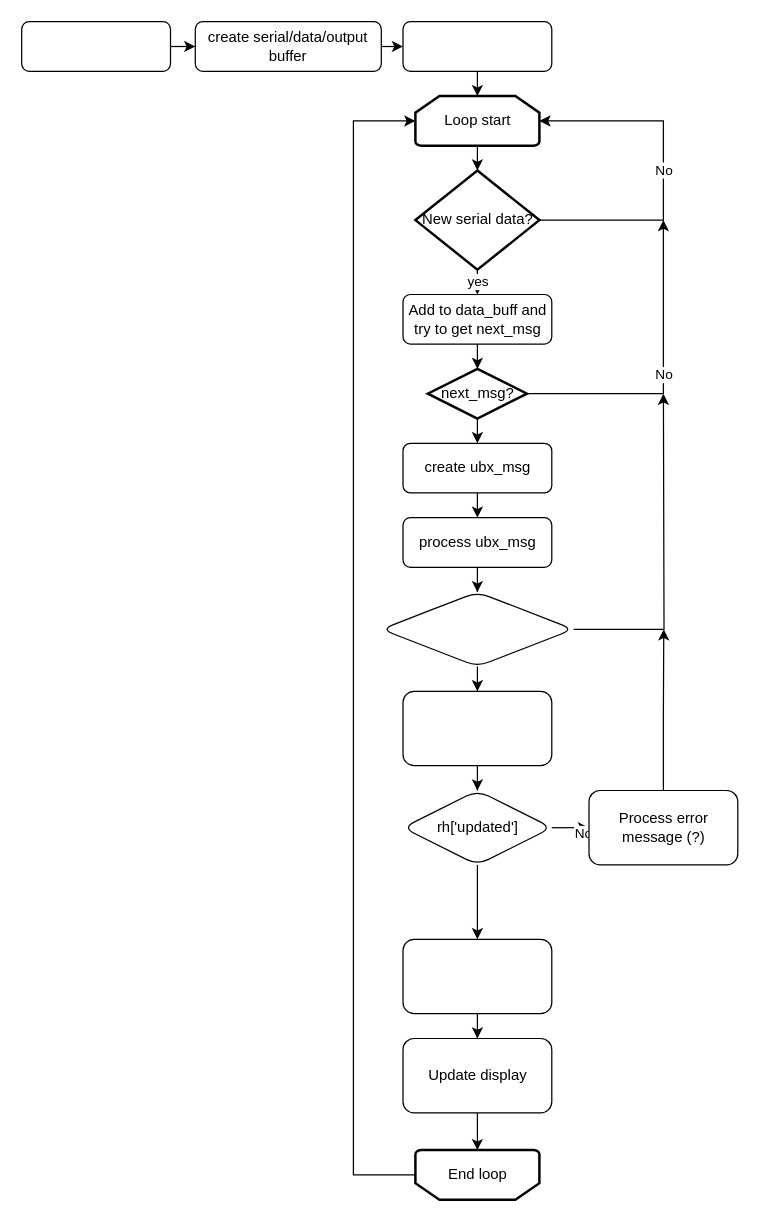
This 760x1223 diagram has some shape labels left out. The centre of each missing label's shape, as x and y in pixels:
create relative heading rh: the point at 477,45
processed_msg['ok']: the point at 477,628
setup serial ports: the point at 95,45
Update output buffer: the point at 477,976
Update rh: the point at 477,728
